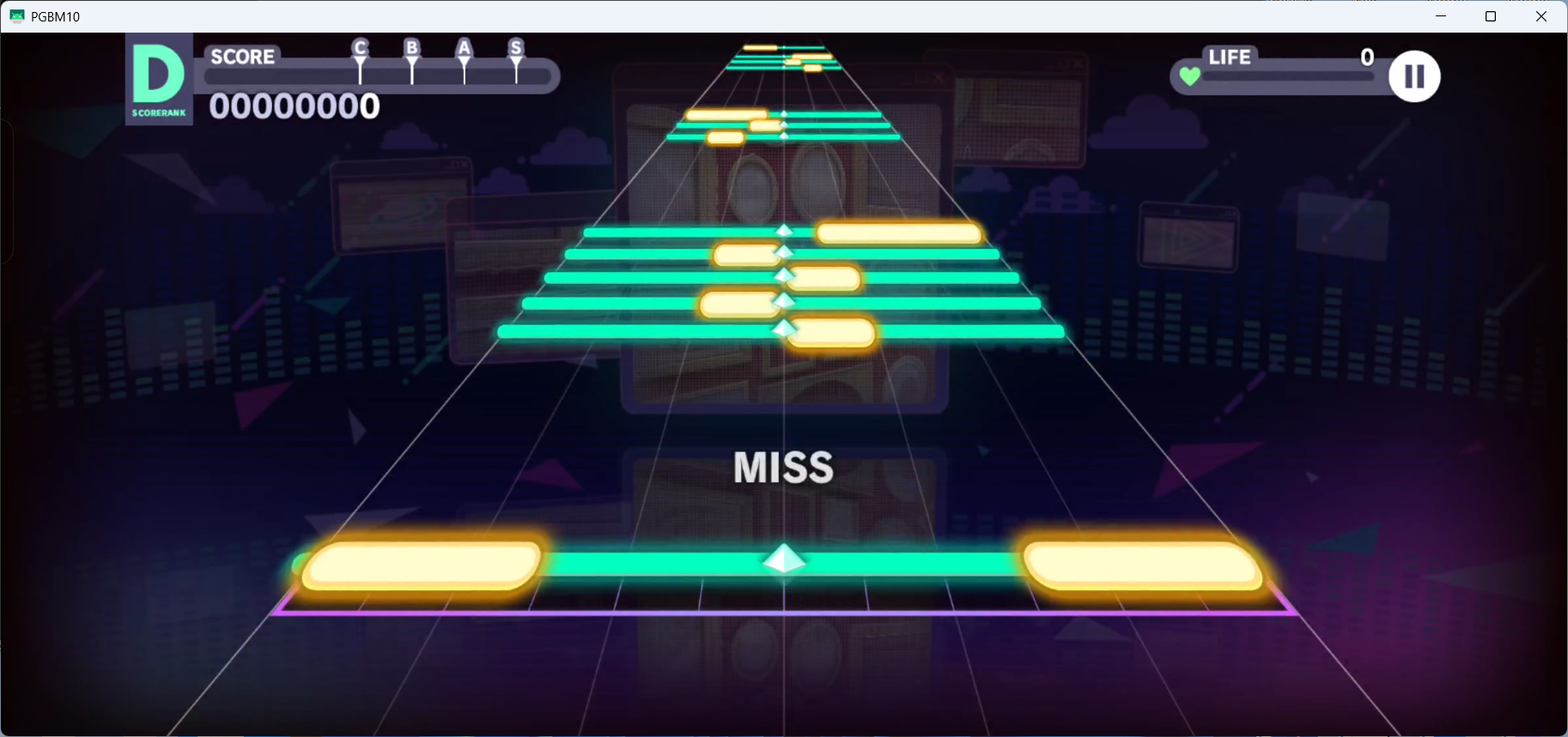sweep: (293, 544, 1262, 578), (497, 317, 1063, 338), (522, 291, 1042, 310), (544, 267, 1018, 284), (564, 243, 1000, 260), (583, 223, 982, 237), (875, 313, 1064, 339), (726, 65, 842, 69), (730, 59, 837, 63), (743, 45, 826, 50), (734, 54, 833, 58)
tap: (1024, 541, 1265, 591), (299, 541, 539, 591), (817, 223, 982, 244), (786, 318, 874, 347), (698, 292, 780, 317), (787, 264, 860, 291), (713, 244, 781, 266), (686, 111, 768, 122), (707, 130, 744, 143), (750, 120, 782, 131), (792, 53, 832, 60), (743, 45, 778, 51), (804, 64, 822, 71), (784, 59, 801, 65)
